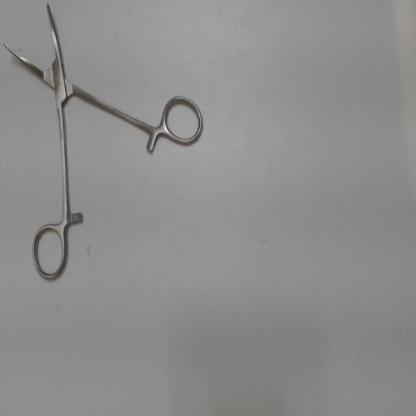Crile Artery Forceps: (3, 0, 208, 288)
